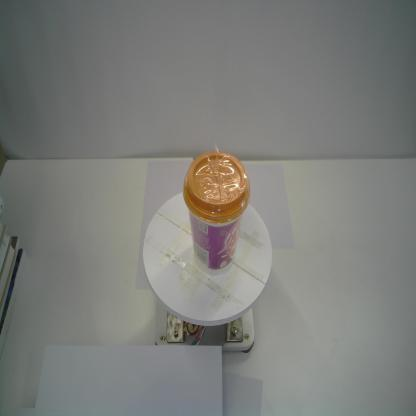Instant Drink: (182, 151, 251, 276)
